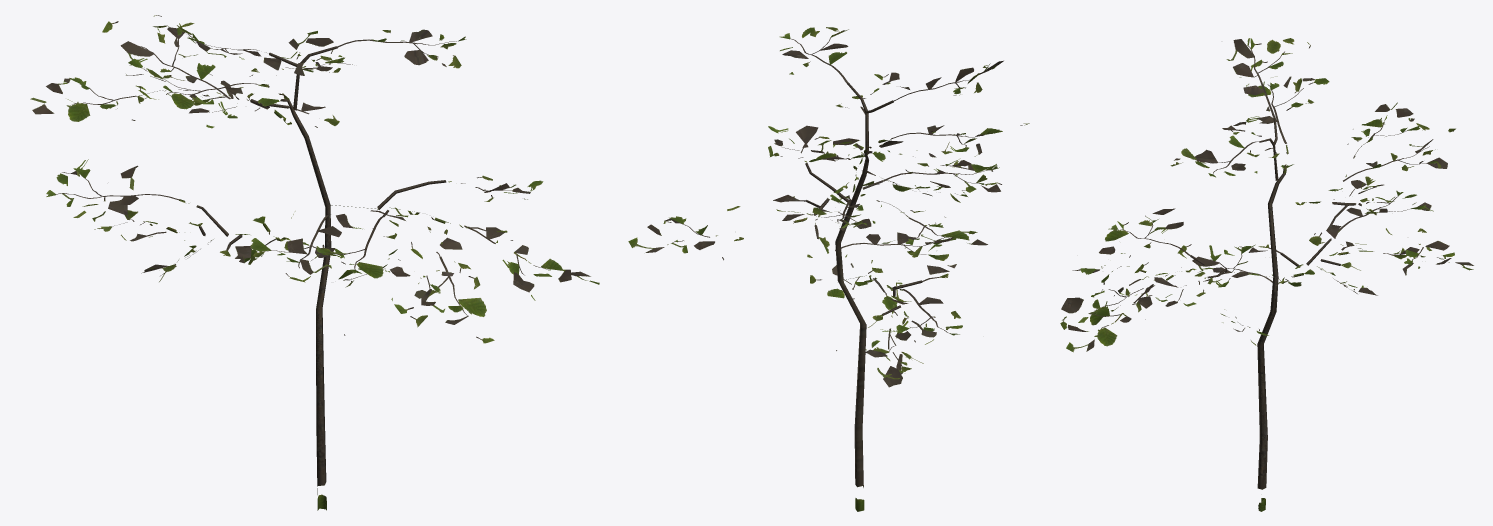
File: SM_BlackAlder_Sapling_03_PP_LOD2.gltf
3 views of the same model, side by side, from view 1: azimuth 30°, elevation 25°; view 2: azimuth 150°, elevation 25°; view 3: azimuth 270°, elevation 25° (orthographic). The views are drawn at different scales.
Visible parts, largest first — view 1: SM_BlackAlder_Sapling_03_PP; view 2: SM_BlackAlder_Sapling_03_PP; view 3: SM_BlackAlder_Sapling_03_PP.
Boxes of the visible parts, bbox=[...] form: SM_BlackAlder_Sapling_03_PP: bbox=[30, 15, 599, 510]; SM_BlackAlder_Sapling_03_PP: bbox=[628, 27, 1029, 511]; SM_BlackAlder_Sapling_03_PP: bbox=[1060, 38, 1473, 511].
Size of the model in its own units: 1.36 by 1.81 by 1.6.
1 material, 1 textured.
